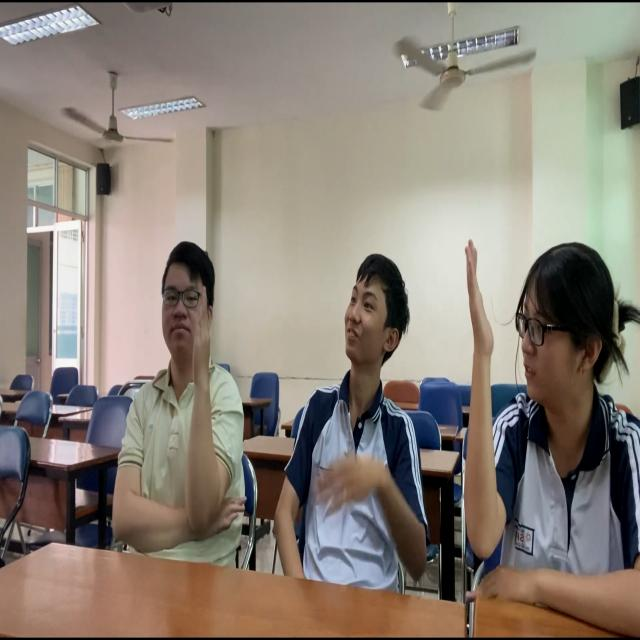raise_hand: (450, 228, 640, 640), (104, 238, 244, 560)
